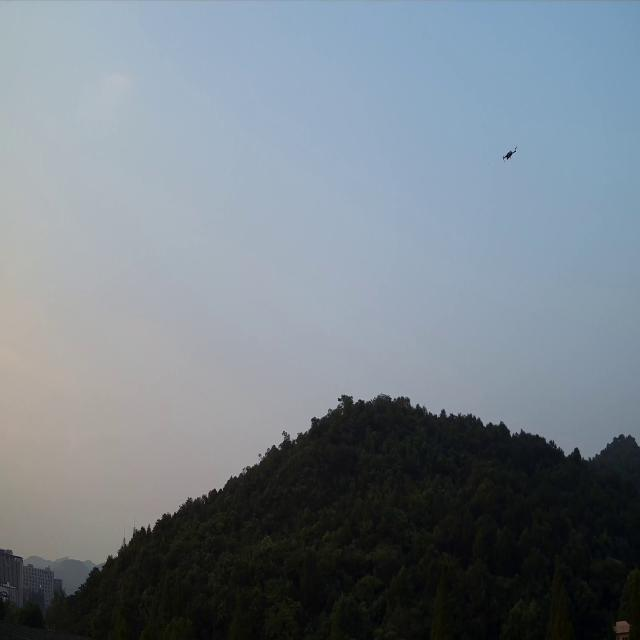UAV: (502, 144, 518, 163)
